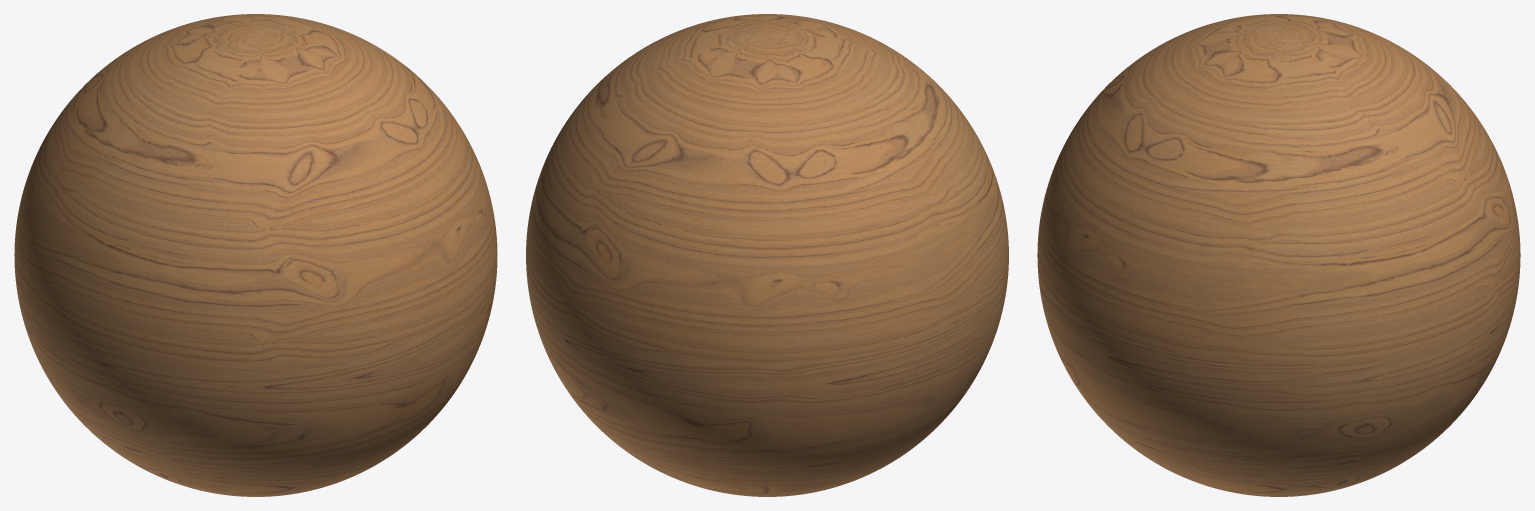
File: teak_veneer_2k.gltf
The picture shows the model from 3 angles, left to right: view 1: azimuth 30°, elevation 25°; view 2: azimuth 150°, elevation 25°; view 3: azimuth 270°, elevation 25°; orthographic projection.
Parts seen in each view (by area): view 1: sphere_gltf; view 2: sphere_gltf; view 3: sphere_gltf.
Boxes of the visible parts, bbox=[...] form: sphere_gltf: bbox=[14, 14, 497, 496]; sphere_gltf: bbox=[526, 14, 1008, 496]; sphere_gltf: bbox=[1037, 14, 1520, 496].
Bounding box in the file's own units: 1 × 1 × 1.
1 material, 1 textured.
